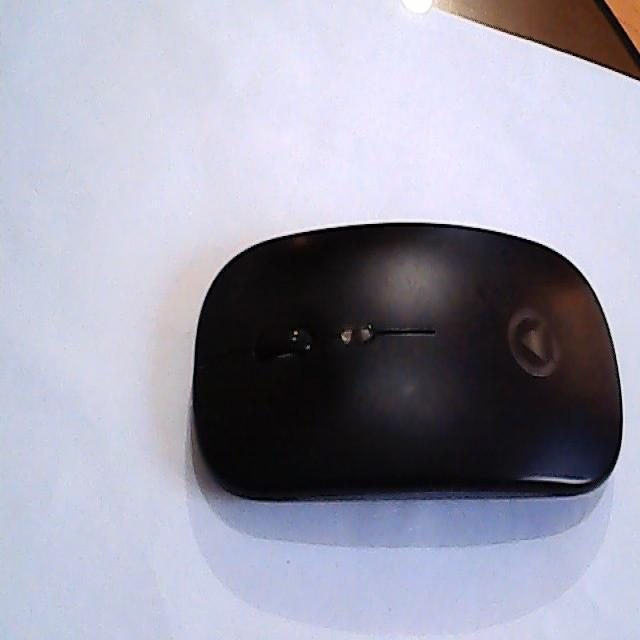Mouse: (194, 216, 624, 509)
